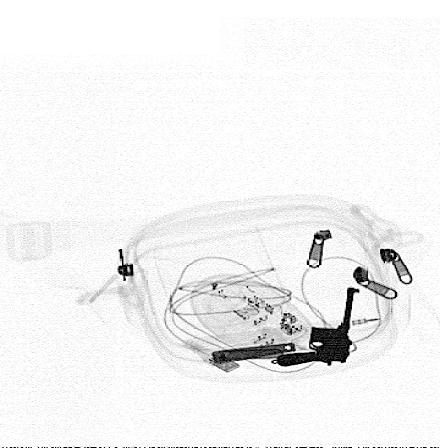Gun: (279, 284, 360, 369)
